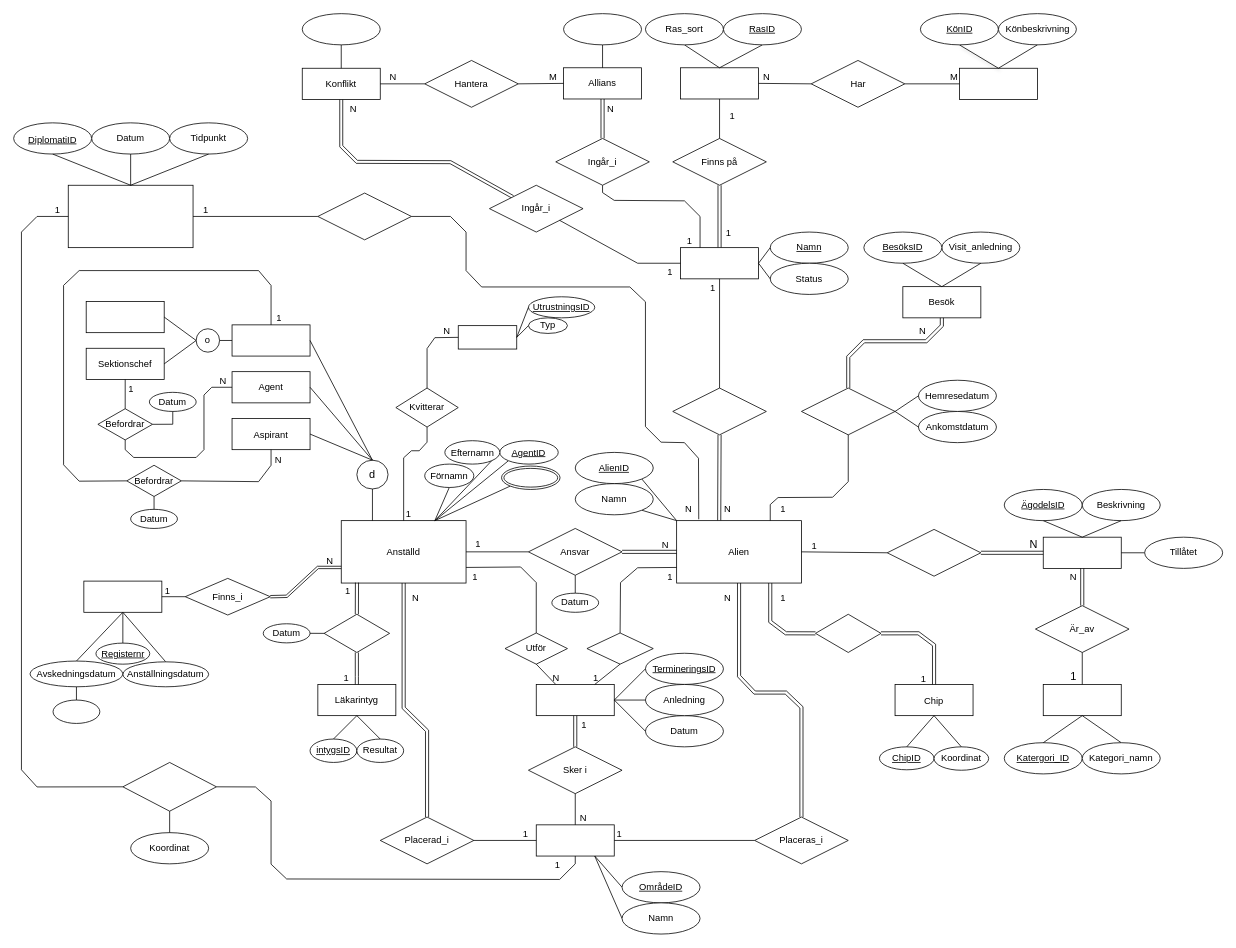
The diagram is 1236 pixels wide and 948 high, and some of its shapes have lost their labels. Here are the shapes that lost their labels. From the top down, the centre of each, then its label:
At [340,29]: "KonfilktID".
At [602,29]: "AliiansID".
At [719,83]: "Ras".
At [998,83]: "Kön".
At [130,216]: "Diplomatiträff".
At [364,216]: "Deltar_på".
At [719,263]: "Planet".
At [124,317]: "Områdeschef".
At [487,337]: "Utrustning".
At [270,340]: "Eliteagent".
At [719,411]: "Kommer_från".
At [848,411]: "Gör".
At [530,477]: "Telefonnr".
At [933,552]: "Tar_med".
At [1081,552]: "Ägodel".
At [122,596]: "Agentregister".
At [356,632]: "Skaffar".
At [619,648]: "Blir".
At [848,632]: "Tilldelas".
At [76,711]: "Orsak".
At [574,700]: "Terminering".
At [1081,700]: "Kategori".
At [169,786]: "Sker_i".
At [574,840]: "Område".
